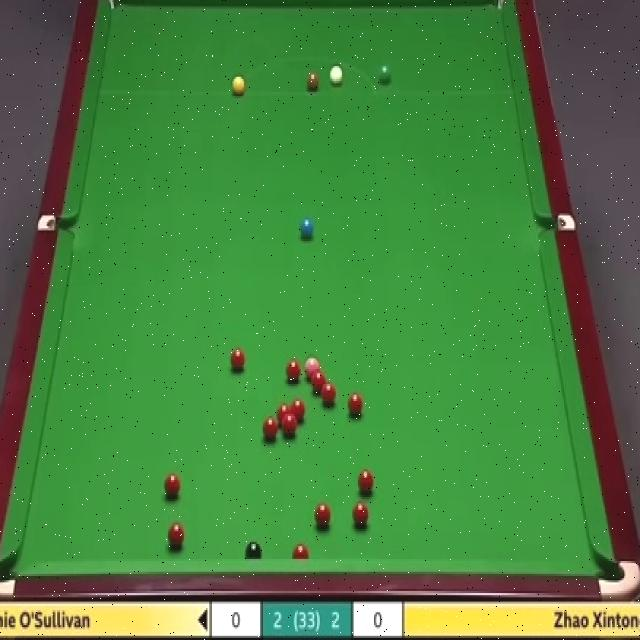black-ball: (246, 542, 264, 558)
blue-ball: (300, 218, 314, 236)
brown-ball: (307, 72, 319, 91)
green-ball: (378, 65, 392, 84)
pink-ball: (305, 356, 320, 378)
red-ball: (356, 469, 375, 496), (315, 501, 332, 530), (162, 473, 182, 495), (167, 524, 185, 548), (283, 360, 302, 382), (262, 415, 278, 441), (353, 502, 369, 527), (348, 391, 364, 416), (292, 397, 310, 419), (230, 345, 246, 369), (320, 381, 336, 404), (311, 370, 326, 389), (278, 404, 292, 424), (283, 414, 297, 434), (291, 544, 311, 558)
white-ball: (330, 65, 342, 84)
yellow-ball: (232, 75, 245, 96)
